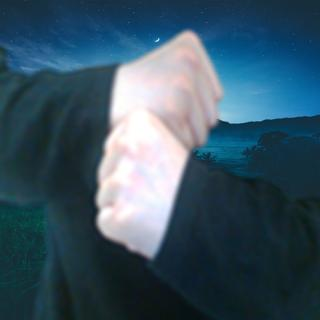CAREFUL: (84, 25, 227, 264)
